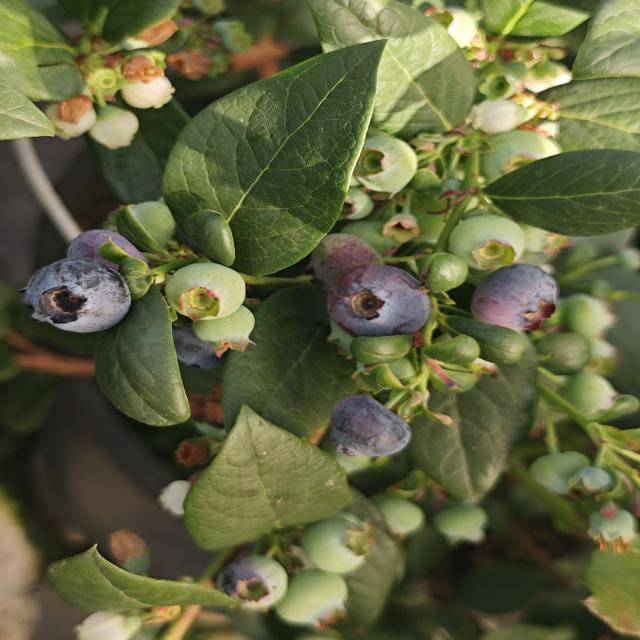ripe: (16, 256, 134, 336), (324, 262, 434, 339), (55, 222, 156, 290), (468, 262, 561, 334), (324, 393, 414, 460), (153, 316, 230, 370)
